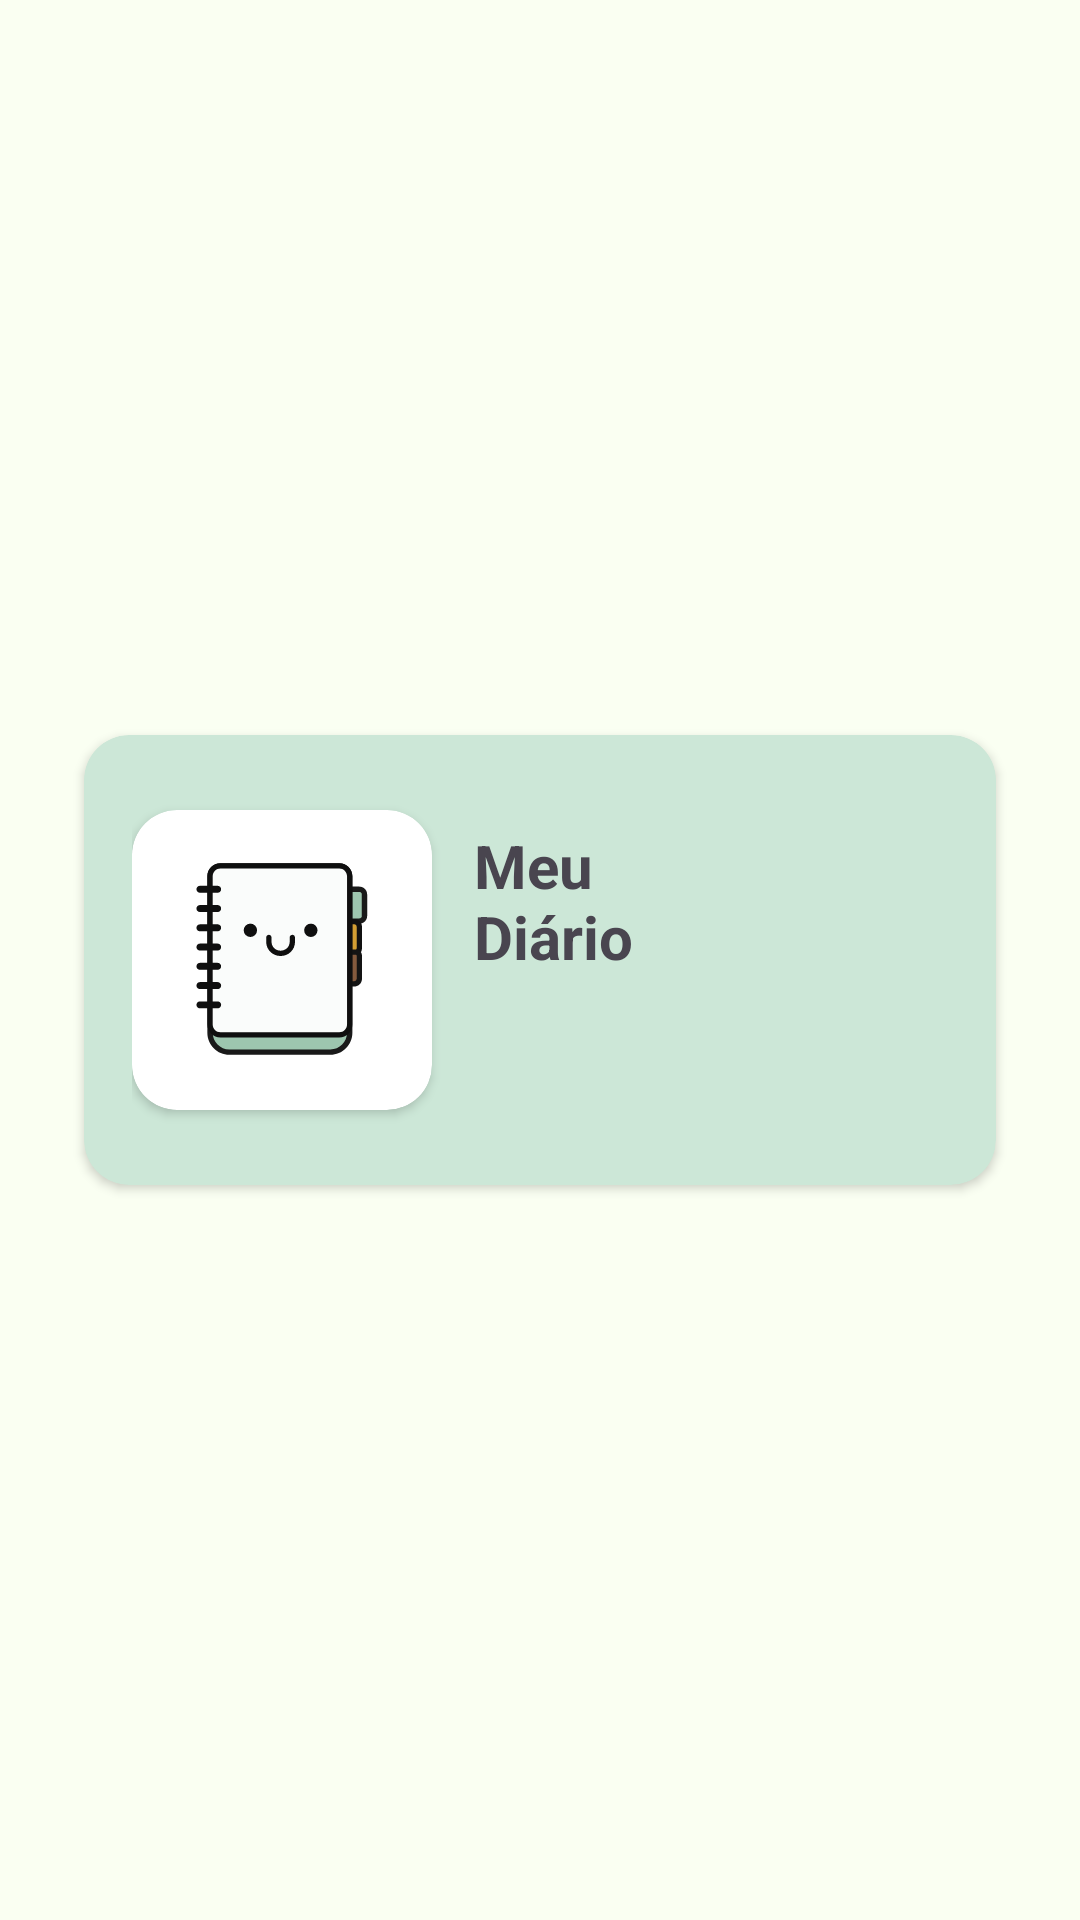

Icon click points for this 1080px x 1920px phone screenshot, format point (x, y):
caderno: point (282, 960)
